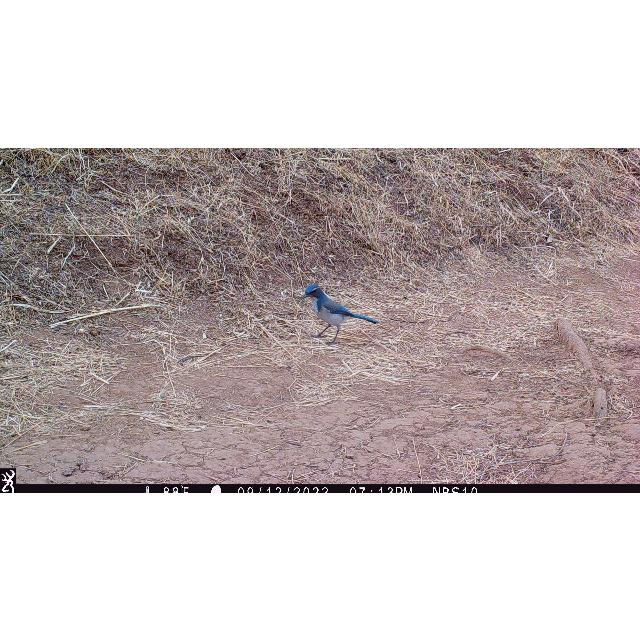animals: (303, 282, 382, 344)
